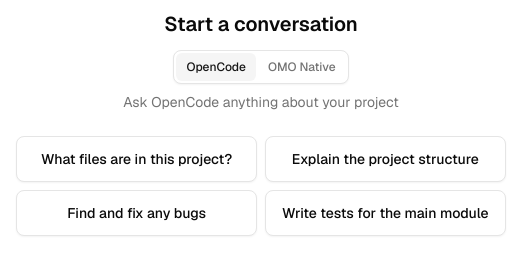
Scenario: EmptyChat engine toggle › stores OMO Native for the workspace and names OmO in the prompt line
Click the button "OMO Native" at (302, 67), box [258,53,346,81]
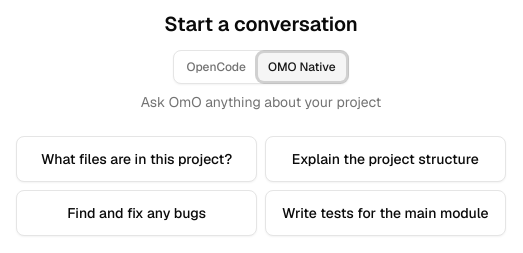
expect the text "Ask OmO anything about your project" is shown: met, box [141,92,381,112]
